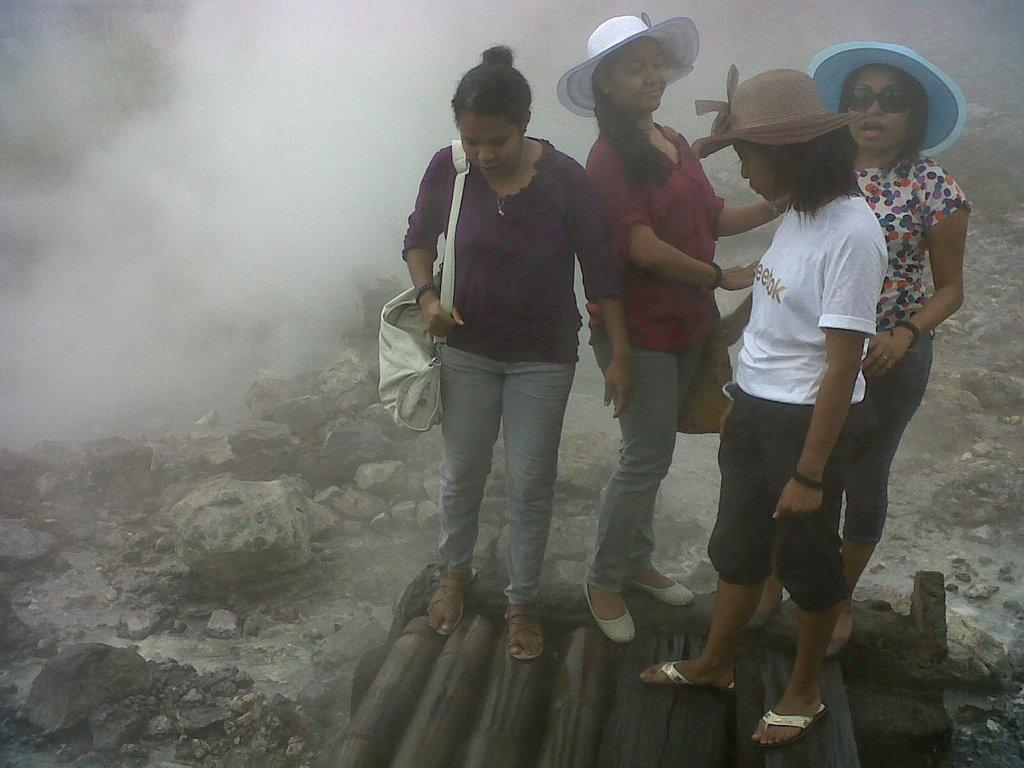Hat: (808, 42, 965, 158), (556, 14, 702, 120), (688, 66, 850, 150)
